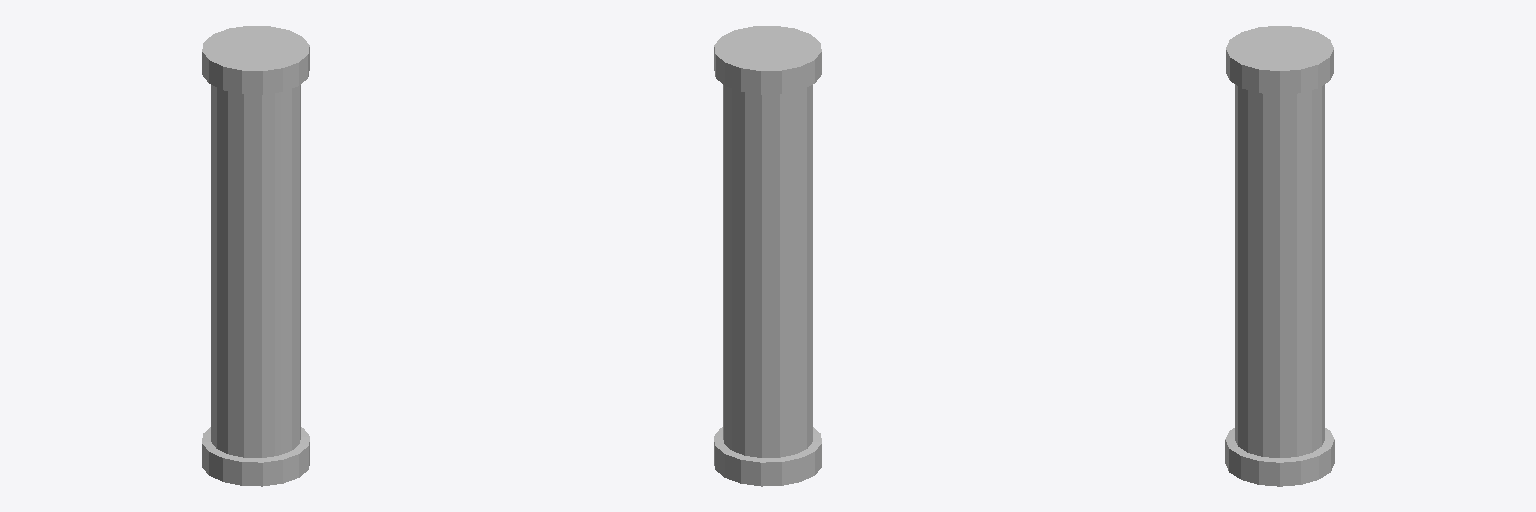
The model's file is Column.obj.
The picture shows the model from 3 angles: view 1: azimuth 30°, elevation 25°; view 2: azimuth 150°, elevation 25°; view 3: azimuth 270°, elevation 25°; orthographic projection.
Visible parts, largest first — view 1: Column; view 2: Column; view 3: Column.
Boxes of the visible parts, x1,y1,x2,y2 form: Column: [202, 26, 309, 486]; Column: [714, 26, 821, 486]; Column: [1225, 26, 1334, 486].
Bounding box in the file's own units: 1.21 × 5.05 × 1.21.